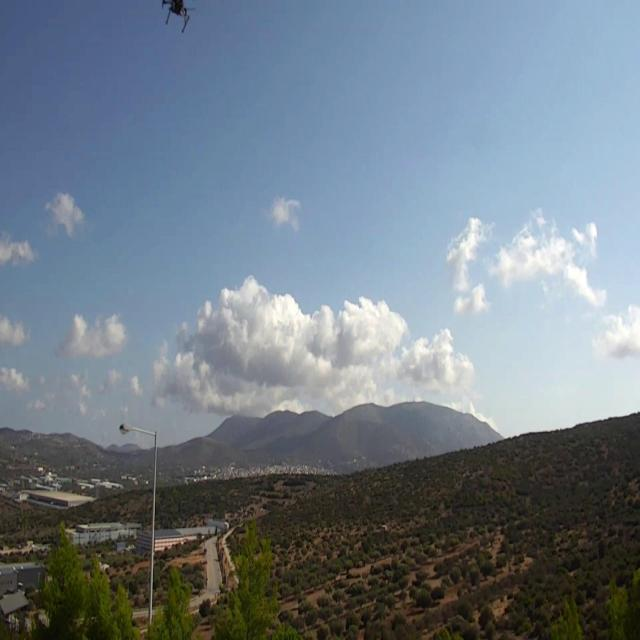drone: (152, 1, 208, 36)
